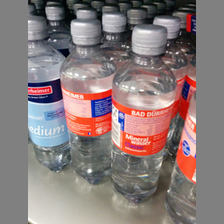water: (109, 23, 176, 202), (58, 18, 116, 184), (28, 16, 71, 175)
